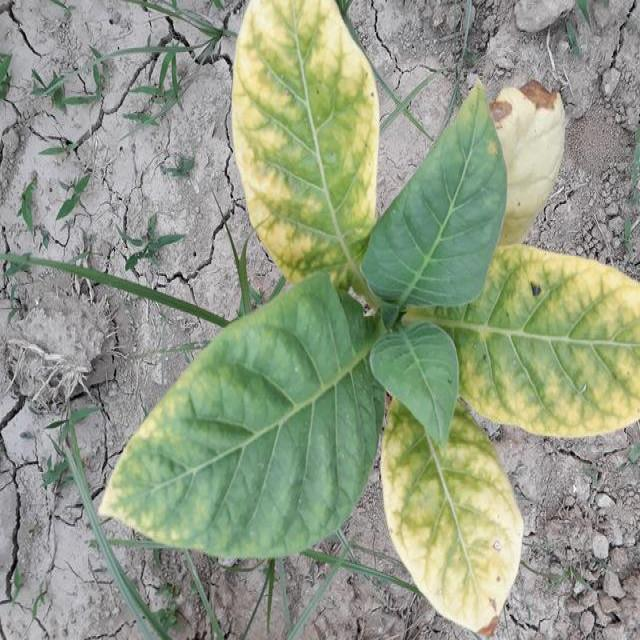crop: (116, 0, 639, 623)
